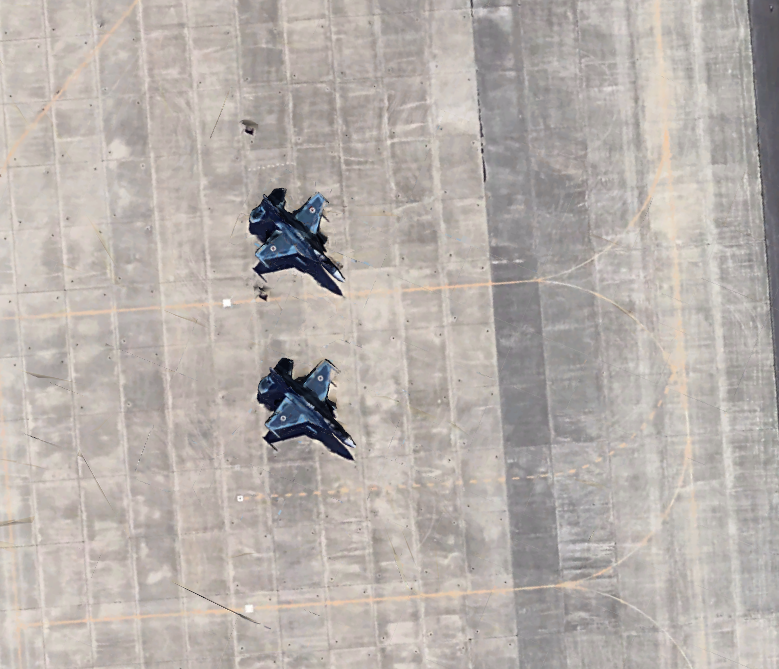A5: (241, 184, 358, 287), (249, 350, 366, 453)
